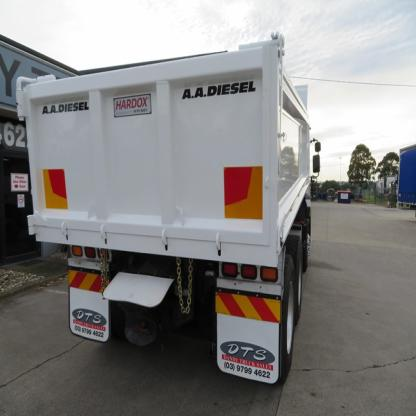dump_truck: (16, 20, 324, 395)
